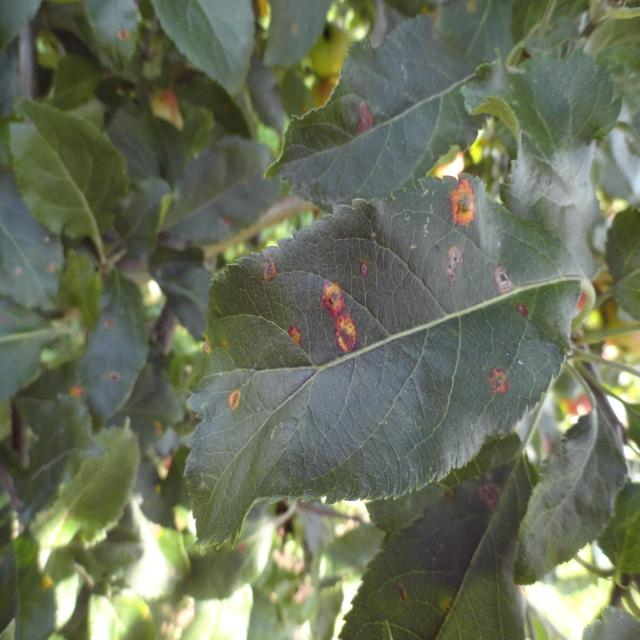Rust: (321, 273, 373, 373), (442, 164, 486, 228), (343, 89, 385, 138), (485, 348, 513, 412), (438, 245, 469, 299), (486, 252, 520, 300), (275, 321, 308, 366), (221, 384, 251, 425), (246, 247, 282, 280)
